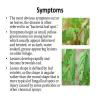Tomato leaf bacterial spot: (63, 50, 75, 84), (78, 49, 89, 84), (65, 27, 75, 43)
